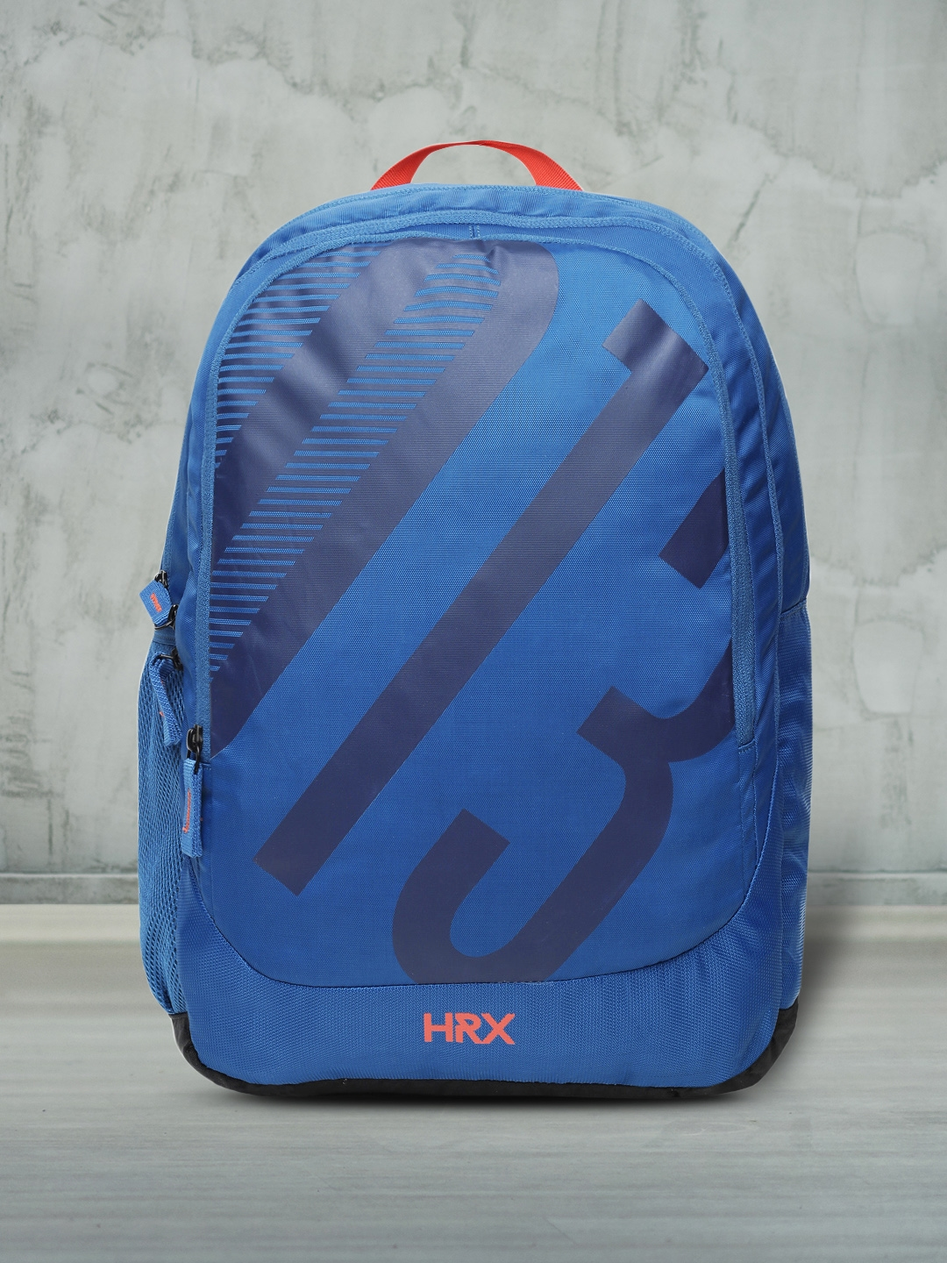backpack: (135, 139, 814, 1101)
